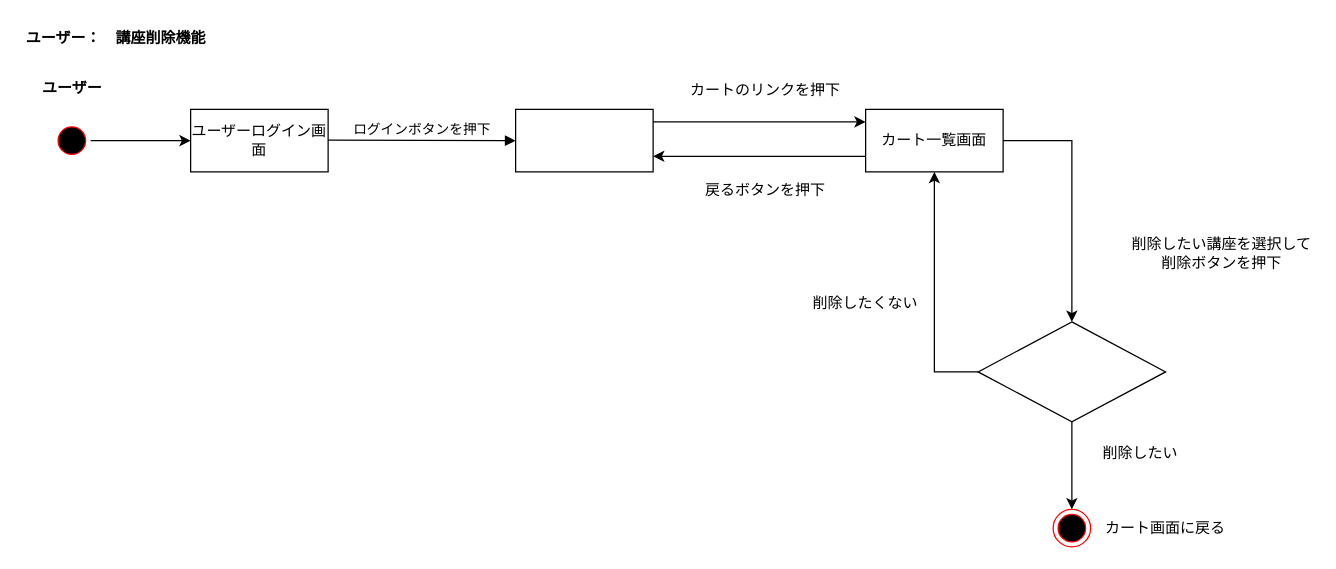
Some shapes in this 1336 by 569 pixel diagram are drawn without their labels. The shapes that lost their labels are listed below. From the top down, each one's centre as x and y in pixels, then its label:
[583,140]: 講座一覧画面
[1071,371]: 削除確認アレート
